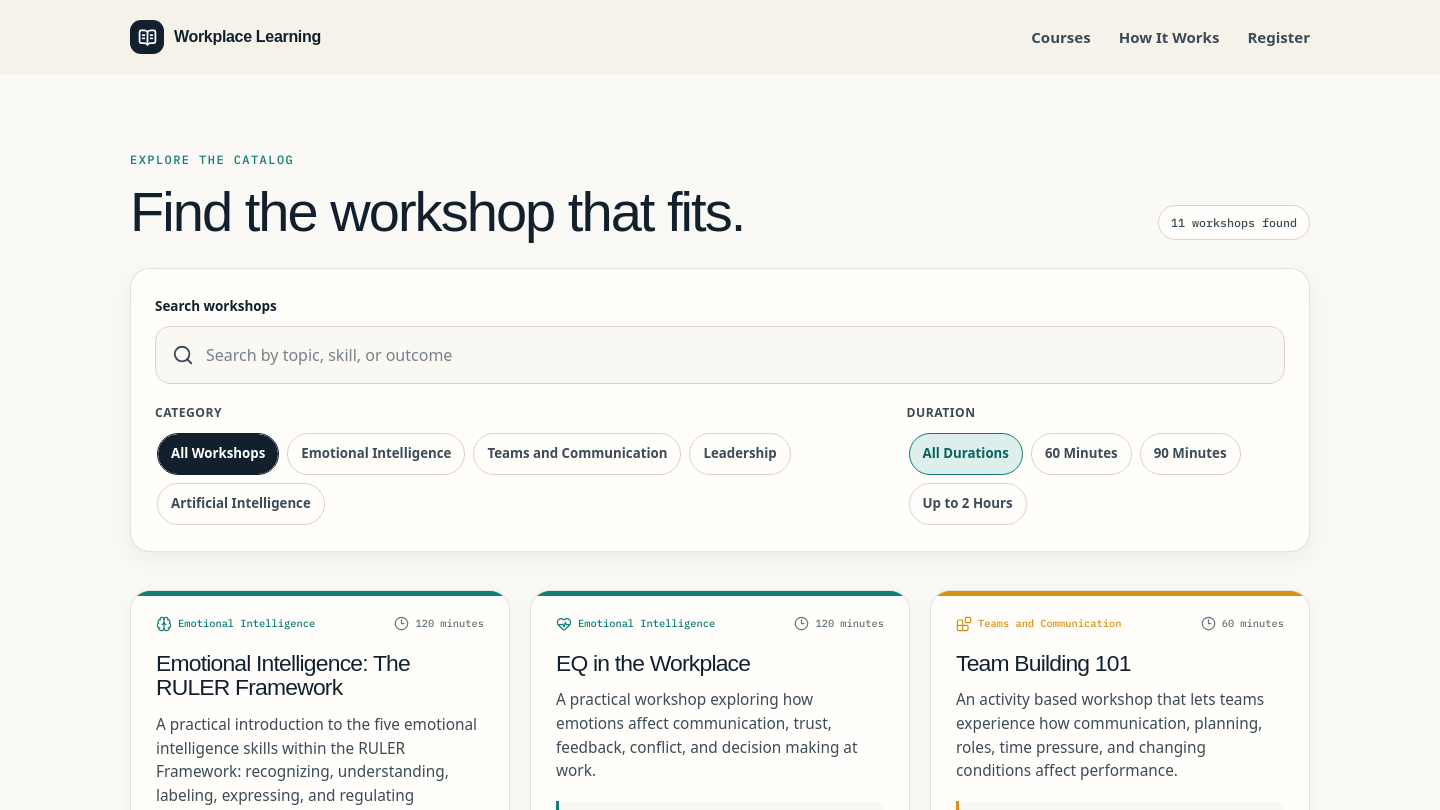
Scenario: workshop explorer › filters by category
(page scrolled)
Click the button "Leadership": (740, 454) x1=689 y1=433 x2=791 y2=475
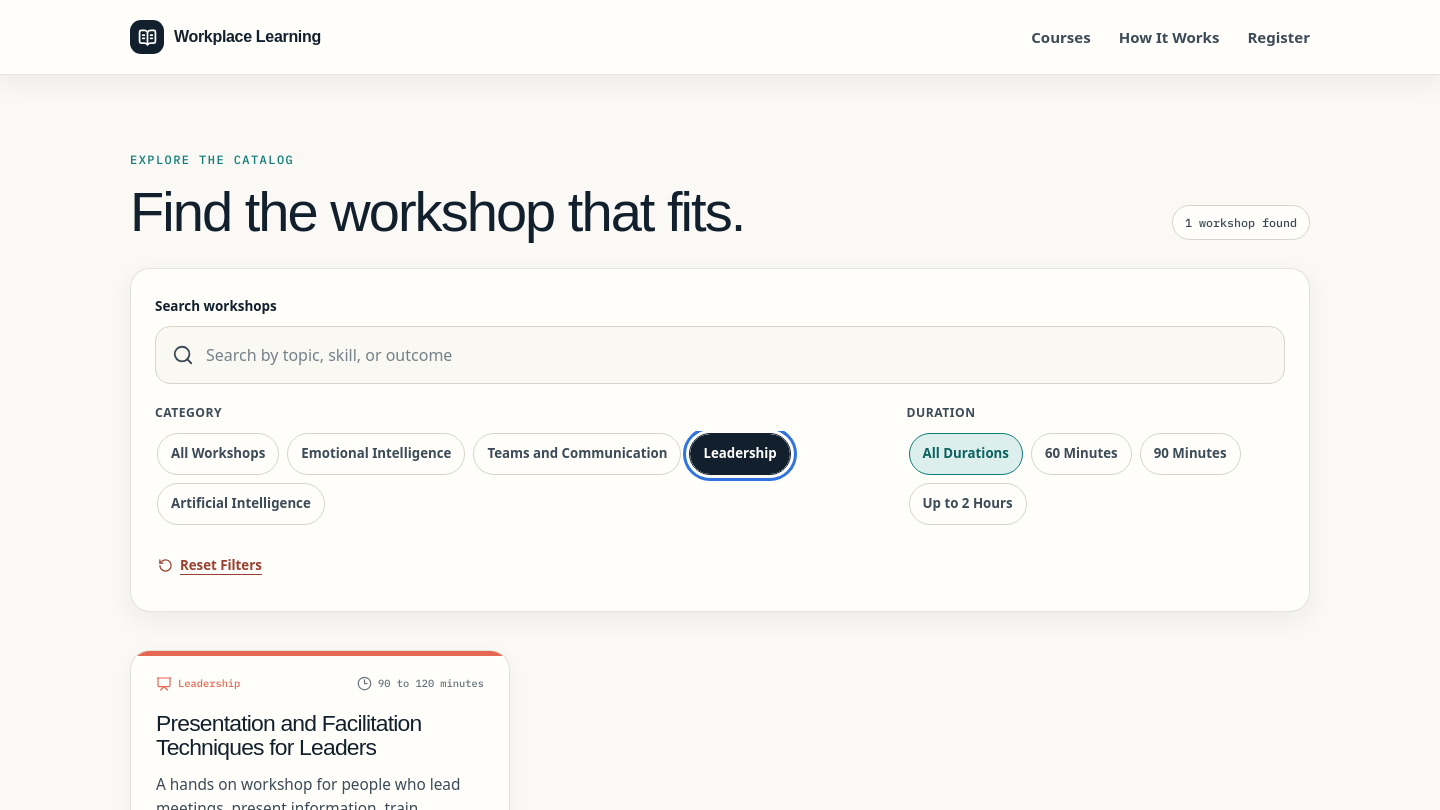
Check: the heading "Presentation and Facilitation Techniques for Leaders" is shown, box x1=156 y1=710 x2=421 y2=760
Check: the message reads "1 workshop found", box x1=1185 y1=215 x2=1297 y2=230
